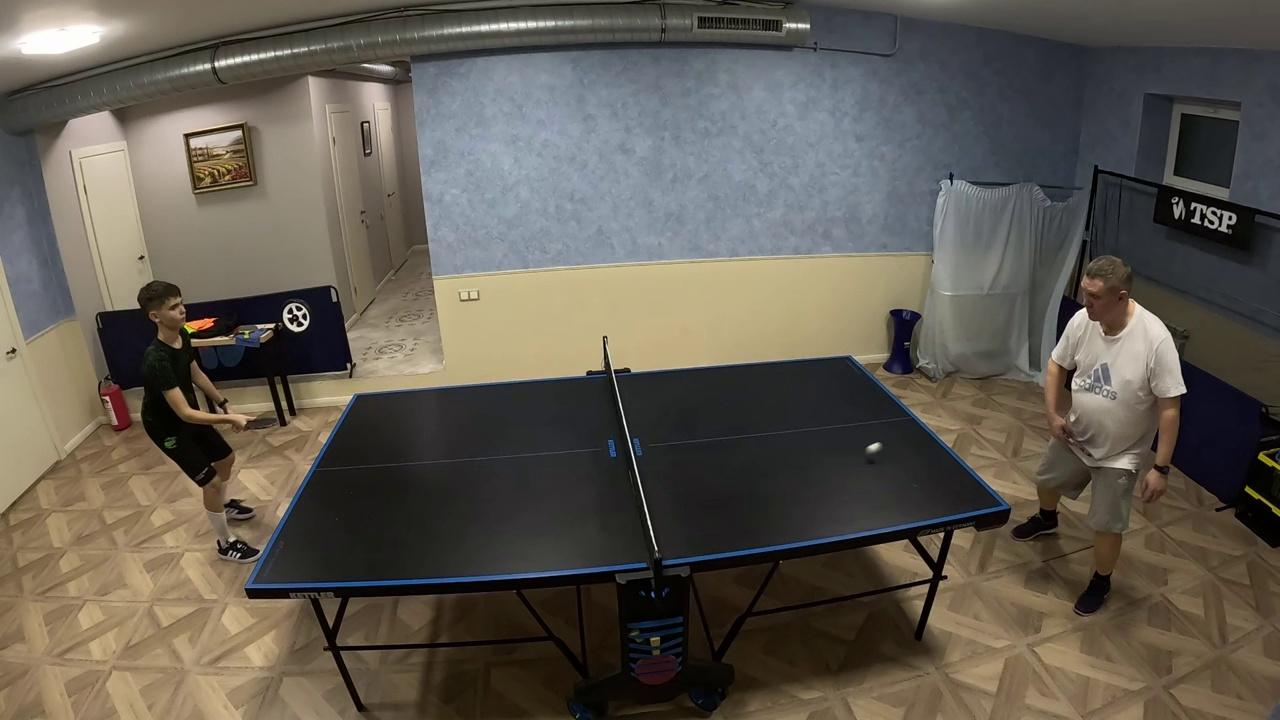Ball: (865, 441, 884, 457)
Net: (602, 336, 664, 589)
Player1: (138, 280, 259, 562)
Player2: (1011, 255, 1186, 597)
Table: (245, 371, 650, 595), (616, 356, 993, 570)
